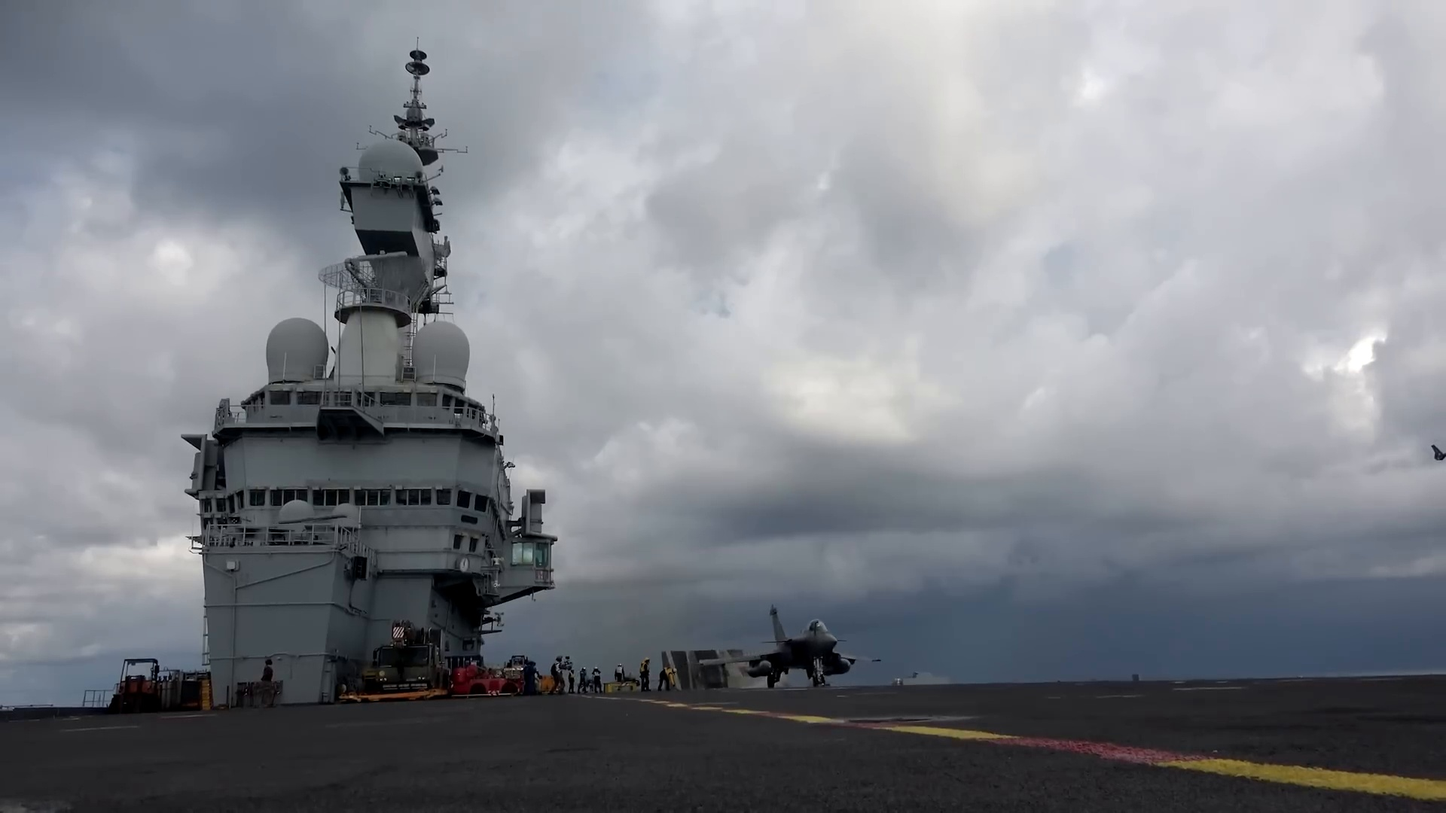Rafale: (698, 606, 883, 689)
